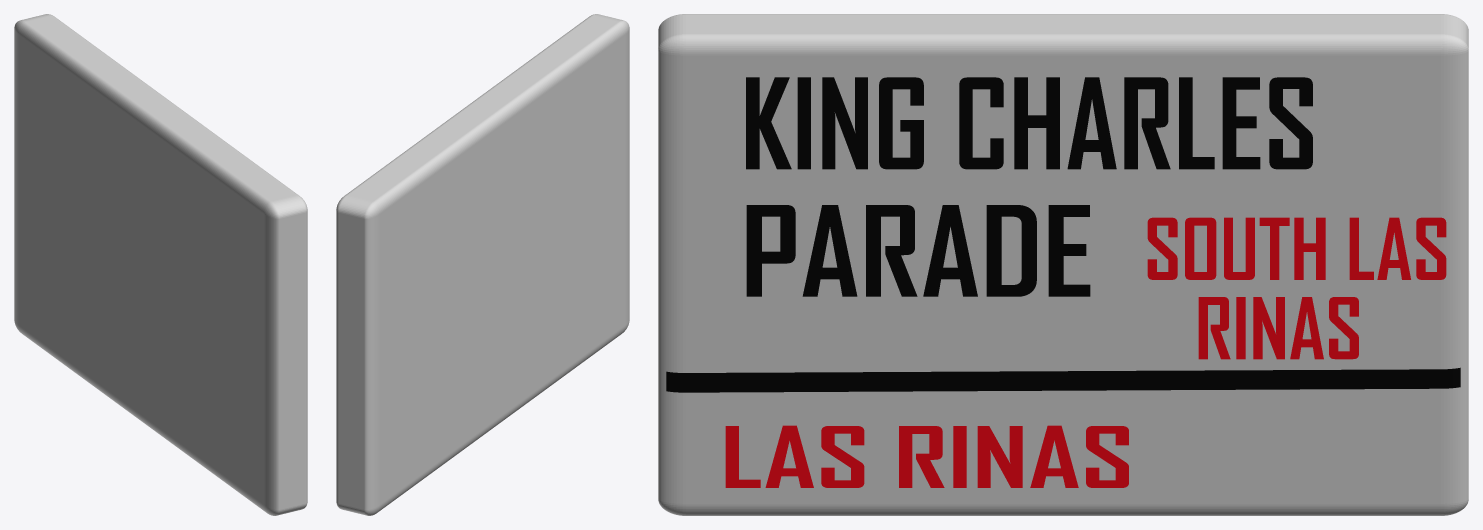
File: uk_styled_street_sign_29.fbx
3 views of the same model, side by side, from view 1: azimuth 30°, elevation 25°; view 2: azimuth 150°, elevation 25°; view 3: azimuth 270°, elevation 25° (orthographic). The views are drawn at different scales.
Parts seen in each view (by area): view 1: Cube; view 2: Cube; view 3: Cube, Text, Text.001, Text.002, Text.003, Text.004.
Part boxes in pixels (x1,y1,x2,y2): Cube: (14,14,307,515); Cube: (336,14,629,515); Cube: (658,14,1468,515); Text: (746,77,1312,169); Text.001: (746,205,1090,296); Text.002: (725,425,1128,487); Text.003: (1147,217,1446,279); Text.004: (1198,297,1358,359).
Size of the model in its own units: 1.63 by 11.91 by 18.18.
